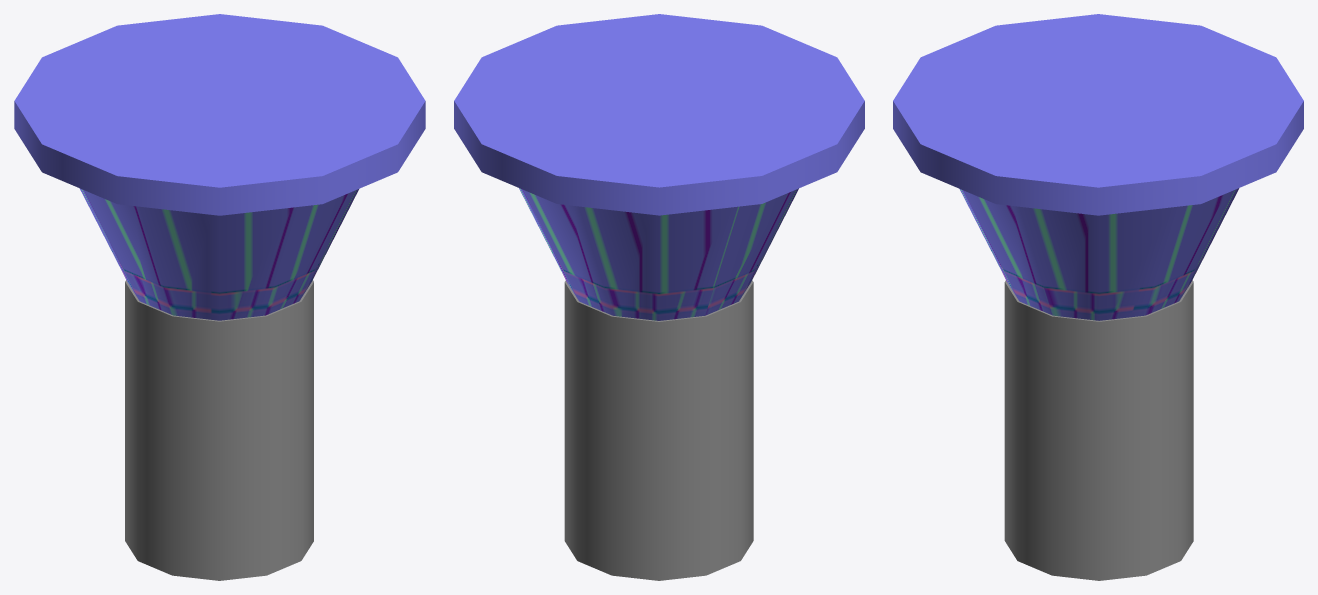
The model's file is halogen_lamp.FBX.
3 renders of one model, left to right at view 1: azimuth 30°, elevation 25°; view 2: azimuth 150°, elevation 25°; view 3: azimuth 270°, elevation 25°, orthographic.
Visible parts, largest first — view 1: halogen_lamp; view 2: halogen_lamp; view 3: halogen_lamp.
Boxes of the visible parts, bbox=[...] form: halogen_lamp: bbox=[14, 14, 425, 580]; halogen_lamp: bbox=[454, 14, 864, 580]; halogen_lamp: bbox=[893, 14, 1303, 580].
Size of the model in its own units: 11.58 by 13.69 by 11.58.
Materials: 2 (1 with a texture image).
